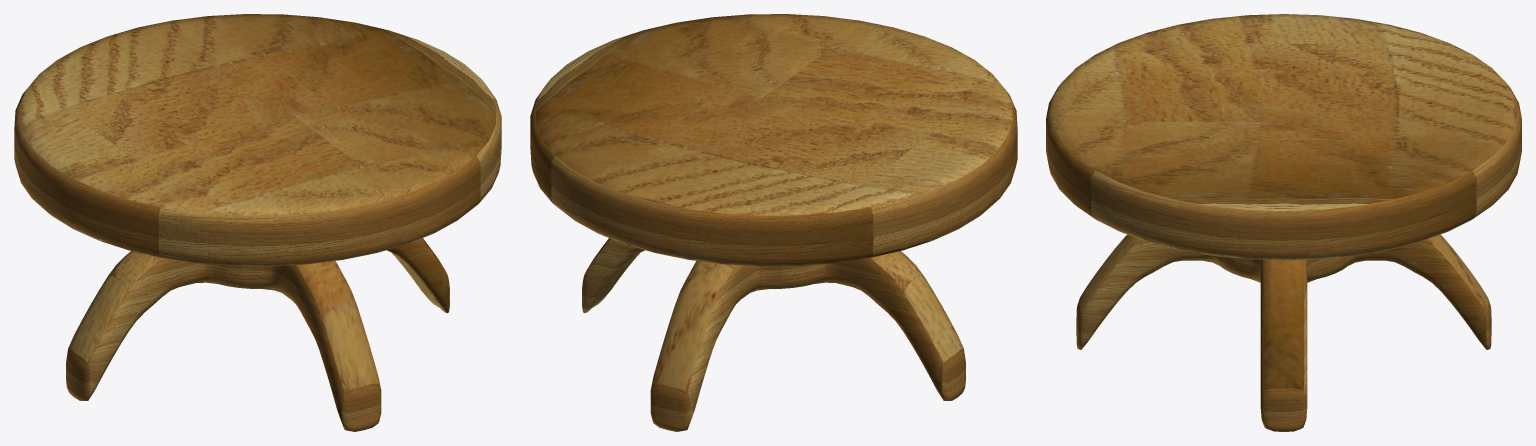
The model's file is table3.FBX.
3 views of the same model, side by side, from view 1: azimuth 30°, elevation 25°; view 2: azimuth 150°, elevation 25°; view 3: azimuth 270°, elevation 25° (orthographic). The views are drawn at different scales.
Visible parts, largest first — view 1: Cylinder01; view 2: Cylinder01; view 3: Cylinder01.
Boxes of the visible parts, x1=… form: Cylinder01: x1=14, y1=14, x2=501, y2=431; Cylinder01: x1=530, y1=14, x2=1017, y2=431; Cylinder01: x1=1046, y1=14, x2=1521, y2=431.
Bounding box in the file's own units: 15.51 × 15.51 × 8.41.
